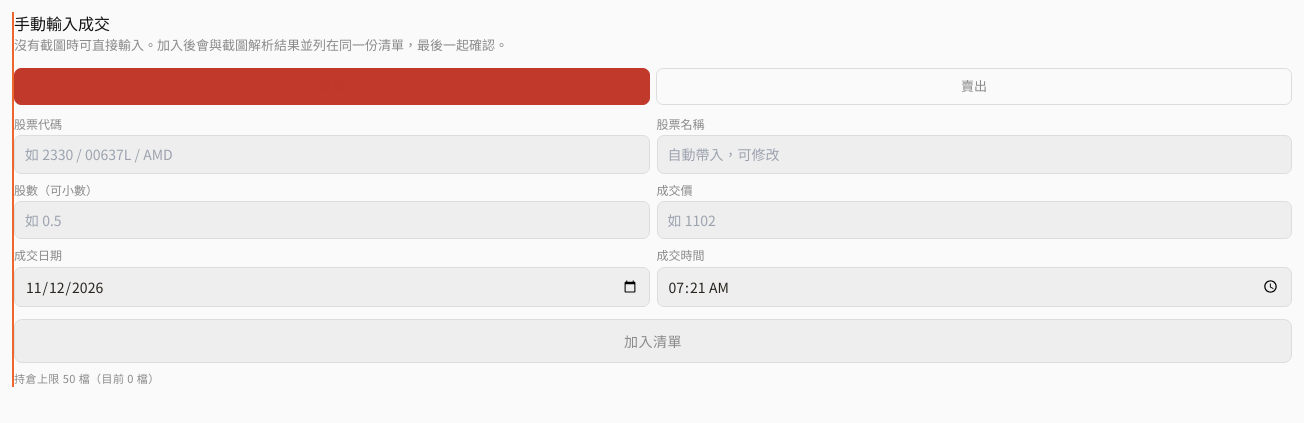
T3 — code/name race、錯誤時機、input step、demo 0 mutation › 慢回應的舊 code 解析結果不得覆蓋新 code 的名稱
The width and height of the screenshot is (1304, 423).
Type "2330" into the field named "股票代碼".
click(332, 154); type("2330")  # box [14,135,650,174]
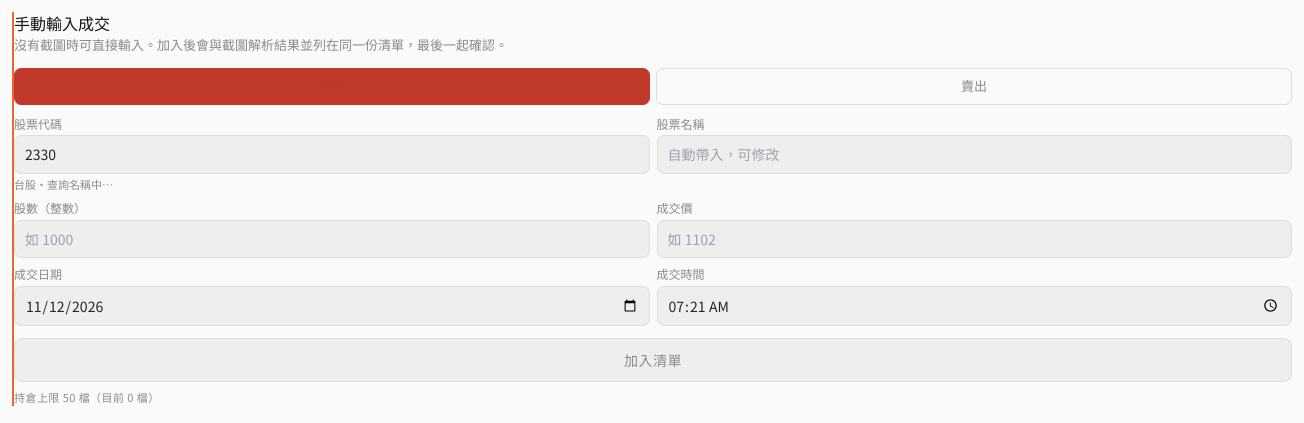
Replace the text in the field named "股票代碼" with "AMD" at (332,154), box [14,135,650,174]
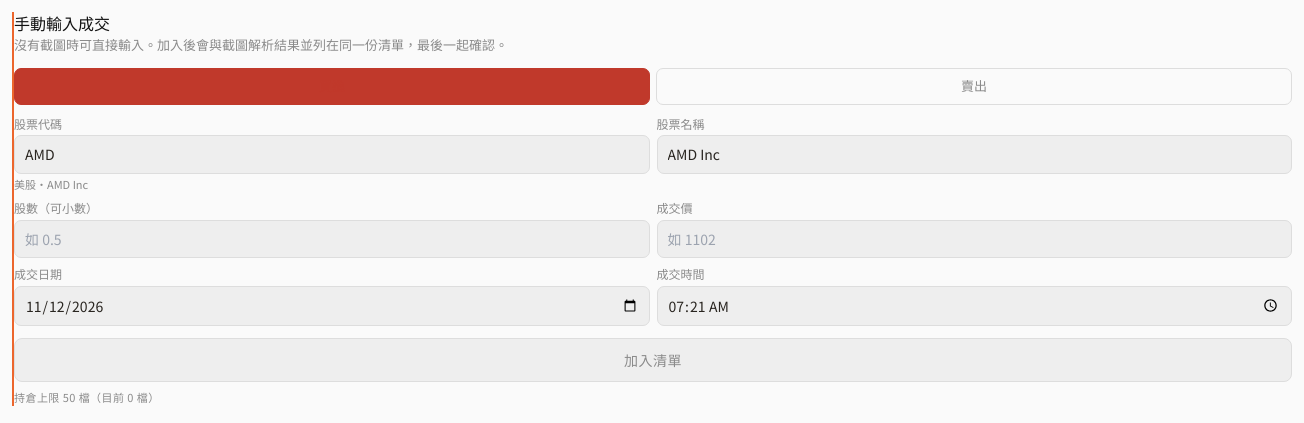
Now the field named "股票名稱" holds "AMD Inc", box [656,135,1292,174]
